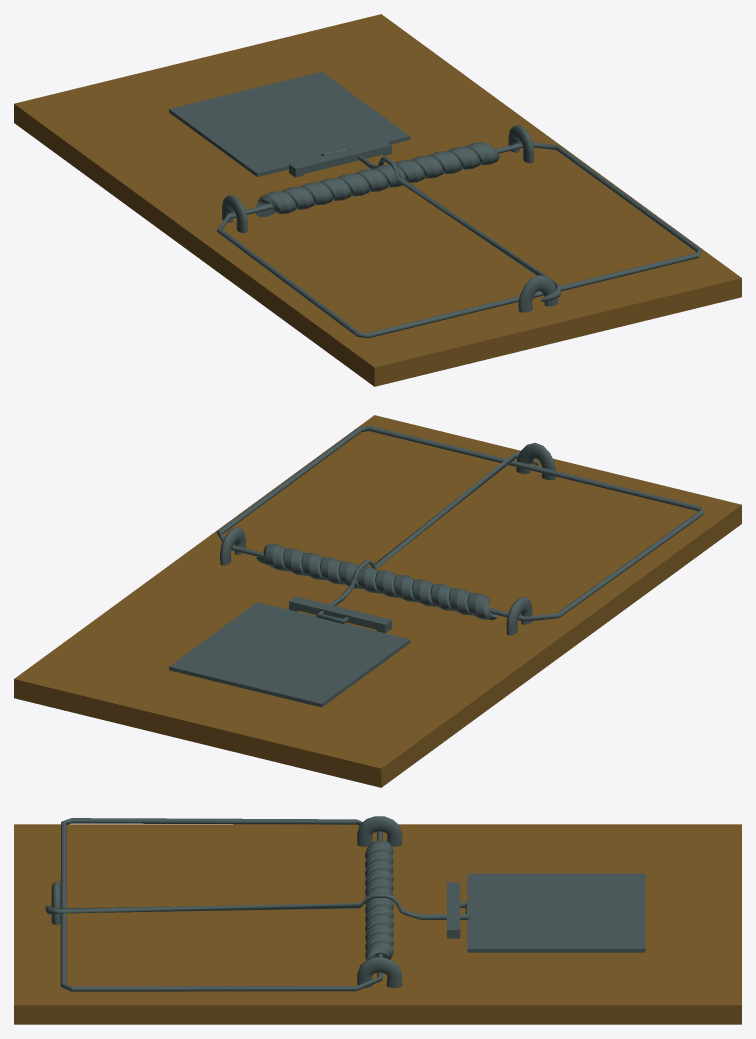
File: Rat_trap.fbx
3 views of the same model, one above another, from view 1: azimuth 30°, elevation 25°; view 2: azimuth 150°, elevation 25°; view 3: azimuth 270°, elevation 25° (orthographic).
Parts seen in each view (by area): view 1: base, steady_mechanism, The_clip, hook; view 2: base, steady_mechanism, The_clip, hook; view 3: base, steady_mechanism, The_clip, hook.
Boxes of the visible parts, left/top/right/bottom form: base: left=14, top=14, right=741, bottom=386; steady_mechanism: left=169, top=71, right=558, bottom=312; The_clip: left=217, top=142, right=701, bottom=338; hook: left=321, top=147, right=561, bottom=301; base: left=14, top=415, right=741, bottom=787; steady_mechanism: left=169, top=443, right=555, bottom=707; The_clip: left=217, top=425, right=703, bottom=621; hook: left=316, top=452, right=538, bottom=623; base: left=14, top=824, right=741, bottom=1024; steady_mechanism: left=51, top=816, right=645, bottom=987; The_clip: left=60, top=818, right=382, bottom=991; hook: left=45, top=893, right=469, bottom=919.
Size of the model in its own units: 10 by 1.32 by 17.
